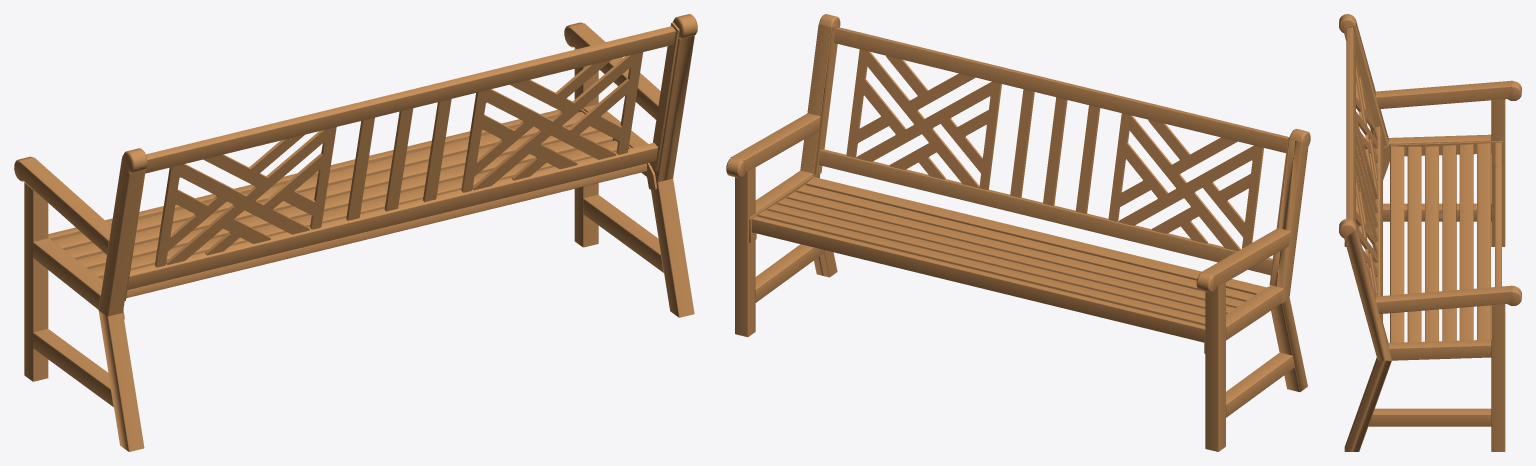
3 views of the same model, side by side, from view 1: azimuth 30°, elevation 25°; view 2: azimuth 150°, elevation 25°; view 3: azimuth 270°, elevation 25° (orthographic). The views are drawn at different scales.
Parts seen in each view (by area): view 1: mesh90_mesh90-geometry, mesh91_mesh91-geometry, mesh89_mesh89-geometry, mesh85_mesh85-geometry, mesh1_mesh1-geometry, mesh27_mesh27-geometry, mesh53_mesh53-geometry, mesh2_mesh2-geometry, mesh56_mesh56-geometry, mesh58_mesh58-geometry, mesh57_mesh57-geometry, mesh55_mesh55-geometry (+10 smaller); view 2: mesh91_mesh91-geometry, mesh90_mesh90-geometry, mesh59_mesh59-geometry, mesh89_mesh89-geometry, mesh85_mesh85-geometry, mesh1_mesh1-geometry, mesh53_mesh53-geometry, mesh54_mesh54-geometry, mesh58_mesh58-geometry, mesh55_mesh55-geometry, mesh57_mesh57-geometry, mesh56_mesh56-geometry (+11 smaller); view 3: mesh27_mesh27-geometry, mesh57_mesh57-geometry, mesh53_mesh53-geometry, mesh54_mesh54-geometry, mesh56_mesh56-geometry, mesh58_mesh58-geometry, mesh55_mesh55-geometry, mesh3_mesh3-geometry, mesh29_mesh29-geometry, mesh30_mesh30-geometry, mesh28_mesh28-geometry, mesh89_mesh89-geometry (+16 smaller).
Part boxes in pixels (x1,y1,x2,y2): mesh90_mesh90-geometry: (155,127,336,267); mesh91_mesh91-geometry: (461,52,643,192); mesh89_mesh89-geometry: (145,26,675,173); mesh85_mesh85-geometry: (127,142,657,289); mesh1_mesh1-geometry: (33,156,144,451); mesh27_mesh27-geometry: (583,21,694,317); mesh53_mesh53-geometry: (126,163,646,297); mesh2_mesh2-geometry: (24,182,48,381); mesh56_mesh56-geometry: (77,131,612,268); mesh58_mesh58-geometry: (53,111,584,249); mesh57_mesh57-geometry: (65,126,600,259); mesh55_mesh55-geometry: (88,140,617,277); mesh91_mesh91-geometry: (846,49,1001,189); mesh90_mesh90-geometry: (1108,113,1263,251); mesh59_mesh59-geometry: (752,216,1205,342); mesh89_mesh89-geometry: (834,27,1287,152); mesh85_mesh85-geometry: (818,149,1272,275); mesh1_mesh1-geometry: (1226,139,1308,391); mesh53_mesh53-geometry: (806,177,1266,294); mesh54_mesh54-geometry: (797,185,1254,301); mesh58_mesh58-geometry: (758,210,1205,325); mesh55_mesh55-geometry: (787,192,1244,307); mesh57_mesh57-geometry: (768,204,1226,316); mesh56_mesh56-geometry: (777,198,1235,313); mesh27_mesh27-geometry: (1344,225,1491,451); mesh57_mesh57-geometry: (1459,144,1473,340); mesh53_mesh53-geometry: (1390,146,1404,342); mesh54_mesh54-geometry: (1407,146,1421,342); mesh56_mesh56-geometry: (1442,145,1456,341); mesh58_mesh58-geometry: (1477,143,1490,339); mesh55_mesh55-geometry: (1425,146,1438,341); mesh3_mesh3-geometry: (1375,80,1512,108); mesh29_mesh29-geometry: (1375,285,1512,313); mesh30_mesh30-geometry: (1368,408,1491,426); mesh28_mesh28-geometry: (1491,304,1505,451); mesh89_mesh89-geometry: (1346,27,1355,223).
Size of the model in its own units: 0.8487 by 0.4276 by 0.3112.
